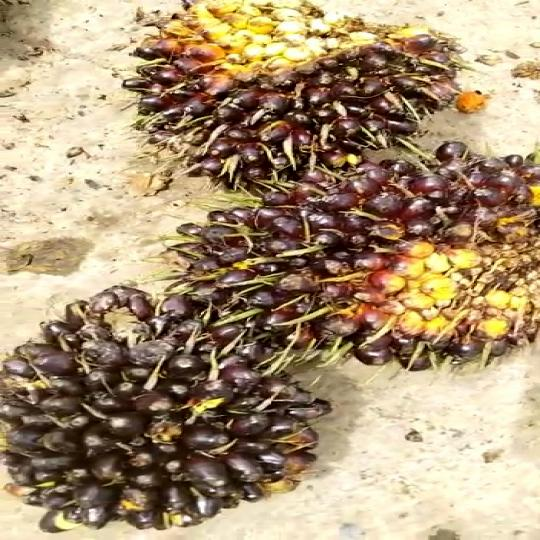mentah: (148, 144, 540, 390), (4, 276, 336, 532), (90, 6, 463, 205)
